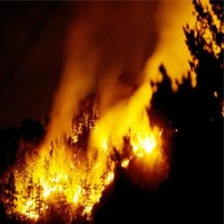fire: (12, 161, 99, 218), (121, 117, 173, 165), (100, 126, 119, 193)
